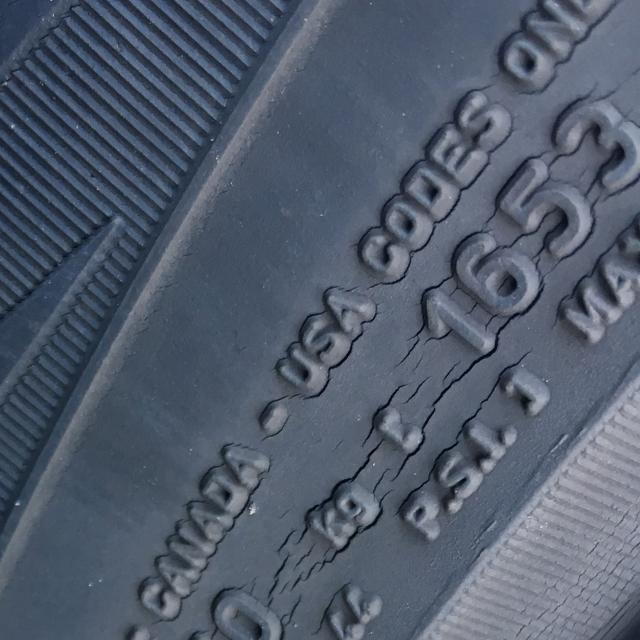Cracks: (118, 0, 640, 640)
